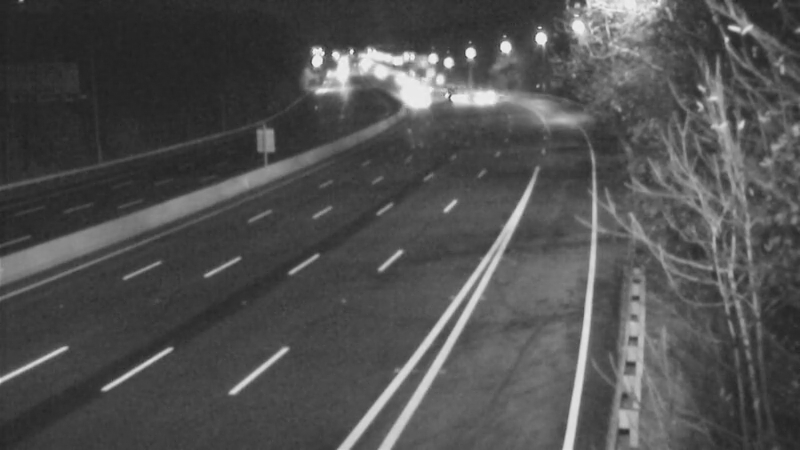vehicle: (433, 69, 483, 119), (450, 69, 500, 119), (389, 71, 439, 121)
